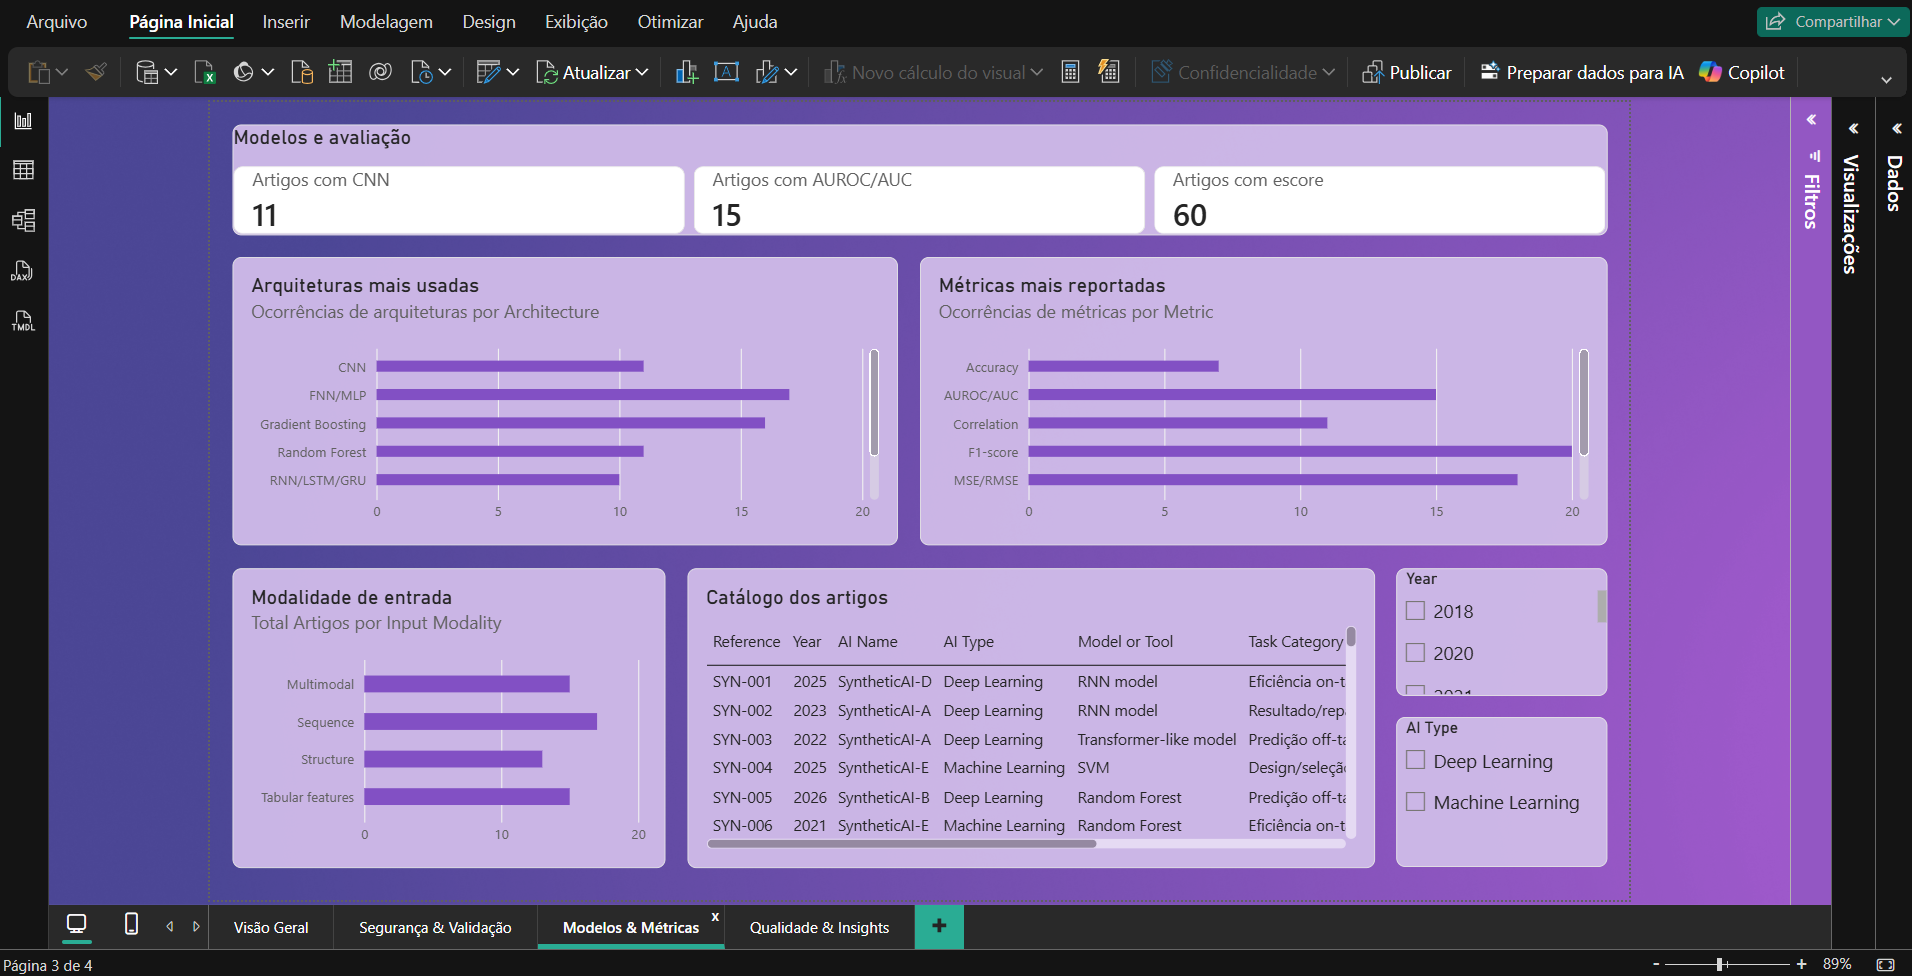

Layout of this report page (visuals, bound fields, positions):
{"tool":"powerbi","page":{"name":"Modelos & Métricas","canvas":[1280,720],"ordinal":2},"visuals":[{"type":"cardVisual","title":"Modelos e avaliação","fields":{"Data":["Architectures.Artigos com CNN","Metrics.Artigos com AUROC/AUC","Articles.Artigos com escore"]},"box":[20,20,1240,100],"z":1000},{"type":"clusteredBarChart","title":"Arquiteturas mais usadas","fields":{"Category":["Architectures.Architecture"],"Y":["Architectures.Ocorrências de arquiteturas"]},"box":[20,140,600,260],"z":2000},{"type":"clusteredBarChart","title":"Métricas mais reportadas","fields":{"Category":["Metrics.Metric"],"Y":["Metrics.Ocorrências de métricas"]},"box":[640,140,620,260],"z":3000},{"type":"clusteredBarChart","title":"Modalidade de entrada","fields":{"Category":["Articles.Input Modality"],"Y":["Articles.Total Artigos"]},"box":[20,420,390,270],"z":4000},{"type":"tableEx","title":"Catálogo dos artigos","fields":{"Values":["Articles.Reference","Articles.Year","Articles.AI Name","Articles.AI Type","Articles.Model or Tool","Articles.Task Category","Articles.System Category","Articles.Reproducibility Category"]},"box":[430,420,620,270],"z":5000},{"type":"slicer","title":"Ano","fields":{"Values":["Articles.Year"]},"box":[1070,420,190,115],"z":6000},{"type":"slicer","title":"Tipo de IA","fields":{"Values":["Articles.AI Type"]},"box":[1070,555,190,135],"z":7000}]}

Visuals, with their boxes on the page's 1280x720 design canvas (x1, y1, x2, y2). These are canvas units, not pixel positions in the 1912x976 screenshot, which may show the page scaled, cropped or inside an application window:
"Modelos e avaliação" cardVisual: BBox(20, 20, 1260, 120)
"Arquiteturas mais usadas" clusteredBarChart: BBox(20, 140, 620, 400)
"Métricas mais reportadas" clusteredBarChart: BBox(640, 140, 1260, 400)
"Modalidade de entrada" clusteredBarChart: BBox(20, 420, 410, 690)
"Catálogo dos artigos" tableEx: BBox(430, 420, 1050, 690)
"Ano" slicer: BBox(1070, 420, 1260, 535)
"Tipo de IA" slicer: BBox(1070, 555, 1260, 690)
